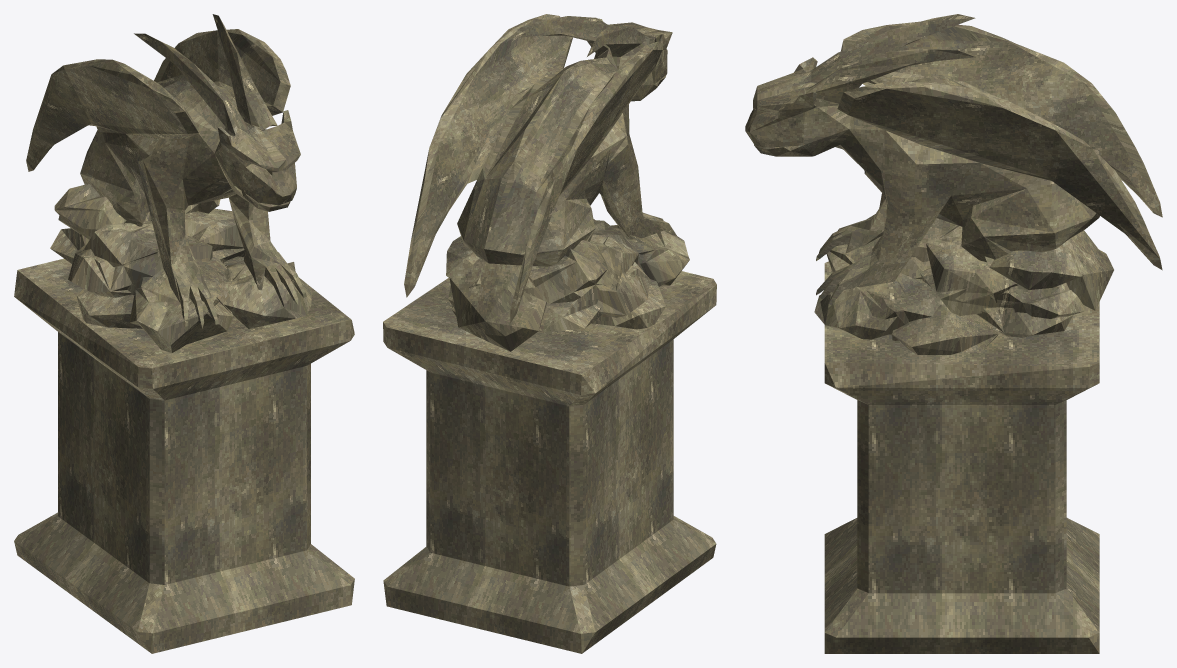
File: C4SMGARGOYLE2.obj
3 views of the same model, side by side, from view 1: azimuth 30°, elevation 25°; view 2: azimuth 150°, elevation 25°; view 3: azimuth 270°, elevation 25° (orthographic). The views are drawn at different scales.
Parts seen in each view (by area): view 1: Node 0, Node 13, Node 12, Node 7, Node 5, Node 4, Node 8, Node 14, Node 11, Node 10, Node 9; view 2: Node 0, Node 13, Node 9, Node 12, Node 7, Node 14, Node 5, Node 11, Node 8, Node 15; view 3: Node 0, Node 13, Node 12, Node 10, Node 4, Node 6, Node 11, Node 15, Node 9, Node 8.
Boxes of the visible parts, x1,y1,x2,y2 form: Node 0: [14, 248, 354, 653]; Node 13: [80, 29, 306, 328]; Node 12: [26, 59, 199, 171]; Node 7: [68, 220, 187, 297]; Node 5: [129, 287, 233, 352]; Node 4: [217, 262, 311, 328]; Node 8: [76, 235, 212, 328]; Node 14: [54, 183, 151, 239]; Node 11: [212, 14, 277, 130]; Node 10: [185, 208, 243, 251]; Node 9: [50, 228, 89, 263]; Node 0: [383, 225, 716, 653]; Node 13: [404, 14, 676, 297]; Node 9: [449, 258, 601, 351]; Node 12: [510, 41, 662, 322]; Node 7: [590, 229, 650, 317]; Node 14: [524, 240, 608, 303]; Node 5: [640, 230, 689, 286]; Node 11: [510, 16, 609, 56]; Node 8: [592, 220, 665, 329]; Node 15: [446, 236, 481, 287]; Node 0: [824, 237, 1099, 653]; Node 13: [745, 14, 1162, 307]; Node 12: [841, 21, 1162, 217]; Node 10: [926, 234, 1085, 318]; Node 4: [814, 272, 918, 339]; Node 6: [892, 304, 998, 354]; Node 11: [804, 48, 975, 103]; Node 15: [985, 244, 1090, 289]; Node 9: [1062, 230, 1113, 310]; Node 8: [911, 226, 951, 269].
Bounding box in the file's own units: 7.02 × 17.25 × 11.46.
13 materials, 13 textured.
